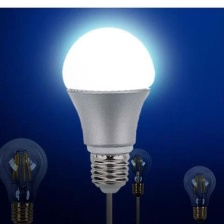light_bulb: (55, 24, 160, 197), (0, 135, 52, 224), (177, 163, 220, 221), (116, 145, 154, 200)
